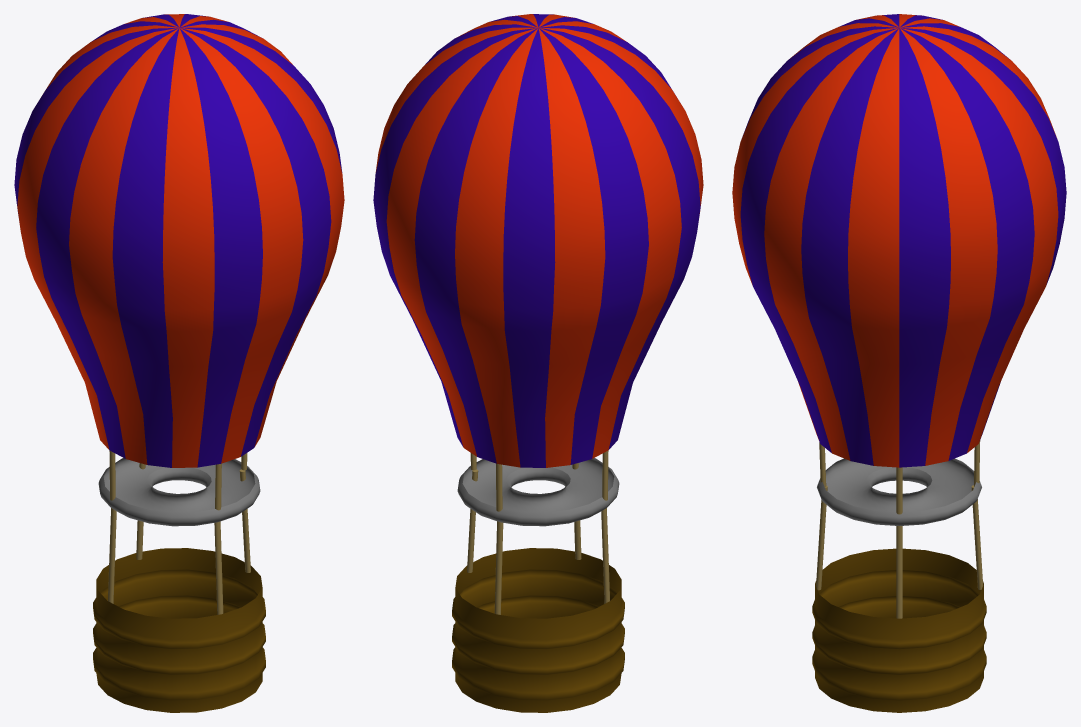
The model's file is Globo.fbx.
The picture shows the model from 3 angles, left to right: view 1: azimuth 30°, elevation 25°; view 2: azimuth 150°, elevation 25°; view 3: azimuth 270°, elevation 25°; orthographic projection.
Parts seen in each view (by area): view 1: pTorus2; view 2: pTorus2; view 3: pTorus2.
Part boxes in pixels (x1,y1,x2,y2): pTorus2: (14, 14, 344, 712); pTorus2: (373, 14, 703, 712); pTorus2: (732, 14, 1066, 712).
Bounding box in the file's own units: 2 × 4.33 × 2.02.
